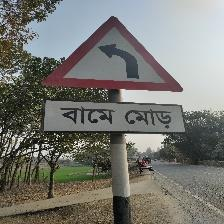Left-Turn: (40, 15, 186, 130)
